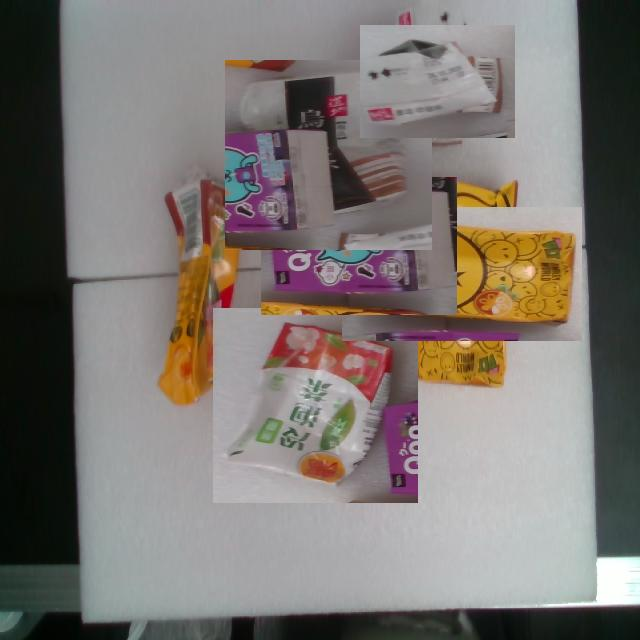juicebox: (213, 290, 418, 530), (225, 32, 433, 258), (342, 206, 583, 341), (259, 178, 466, 315), (143, 170, 252, 413), (361, 23, 515, 139)
